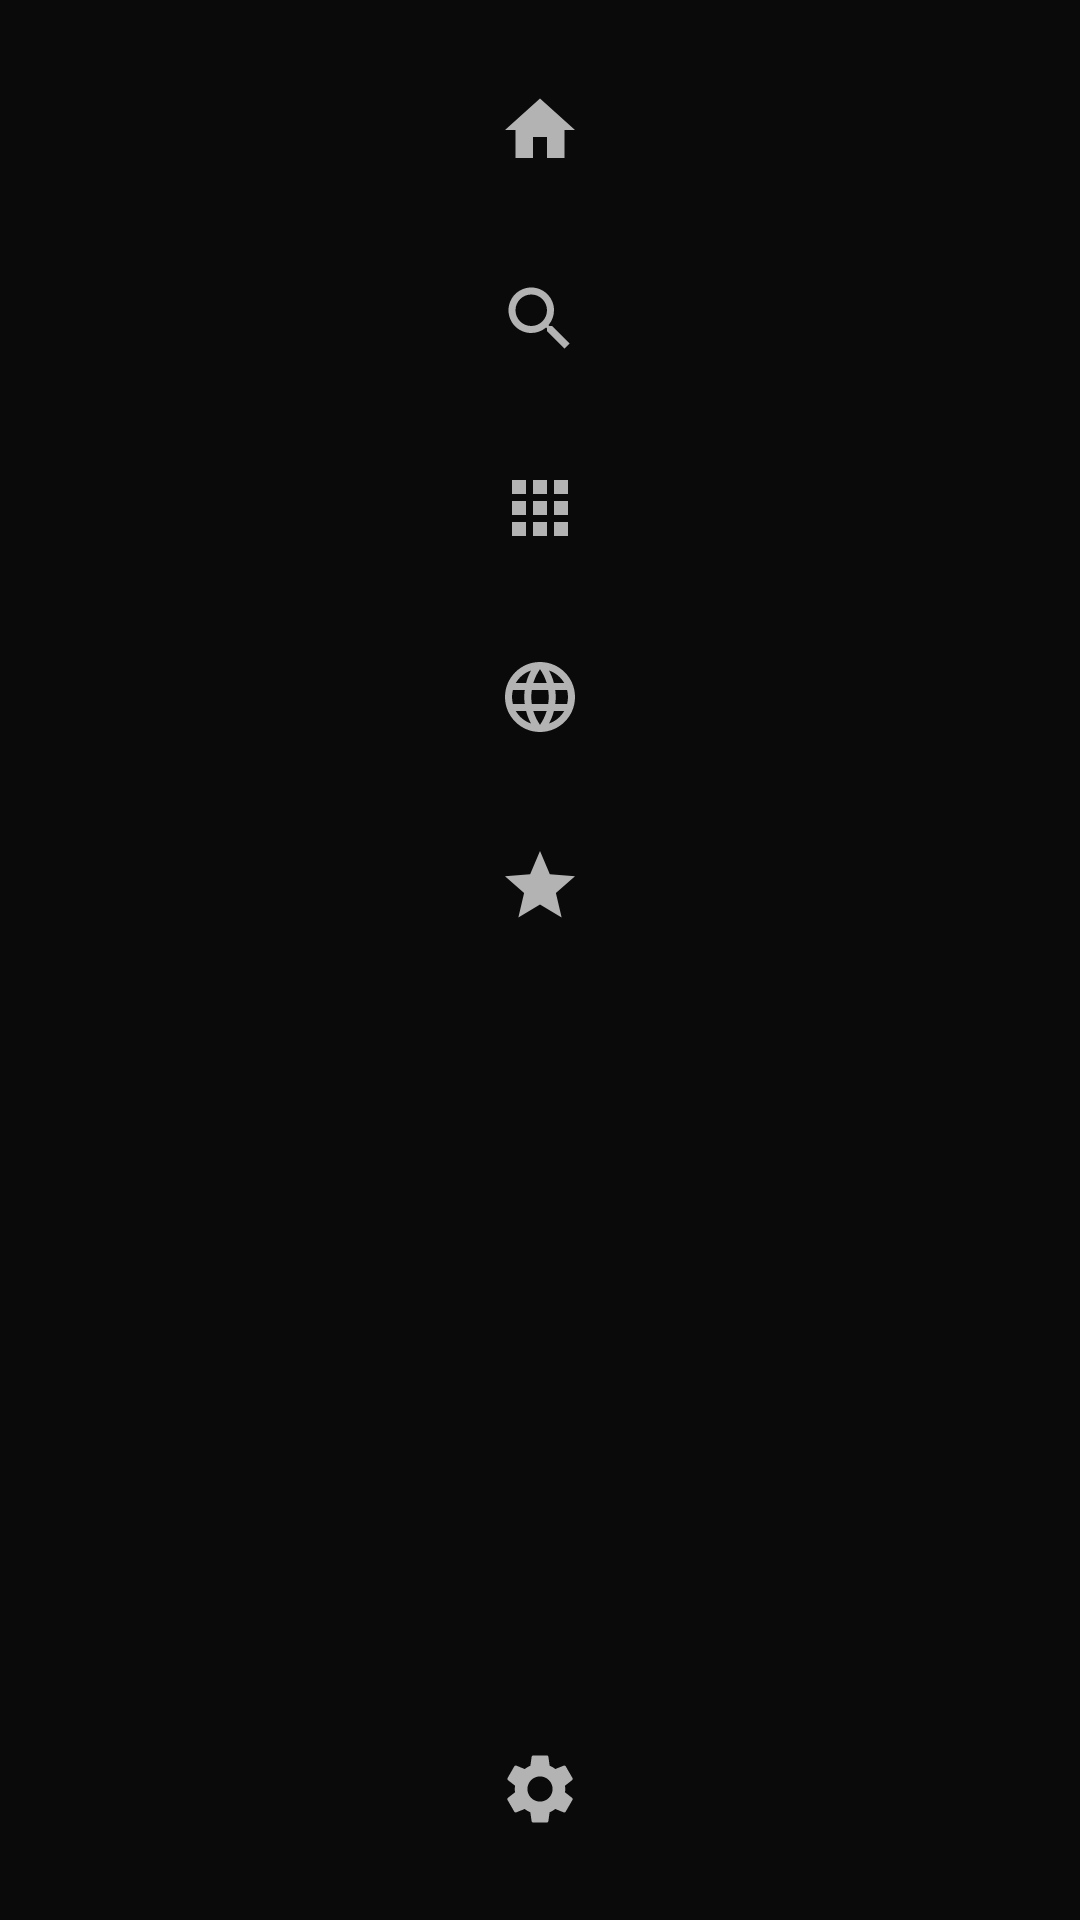

Screen size 1080 × 1920. Icon name, then its box in pixels as (x1, y1, x2, y2):
Categories: (512, 480, 568, 536)
Favorites: (505, 851, 575, 918)
Home: (505, 99, 575, 158)
Languages: (505, 662, 575, 732)
Search: (508, 287, 570, 349)
Settings: (507, 1755, 573, 1823)
